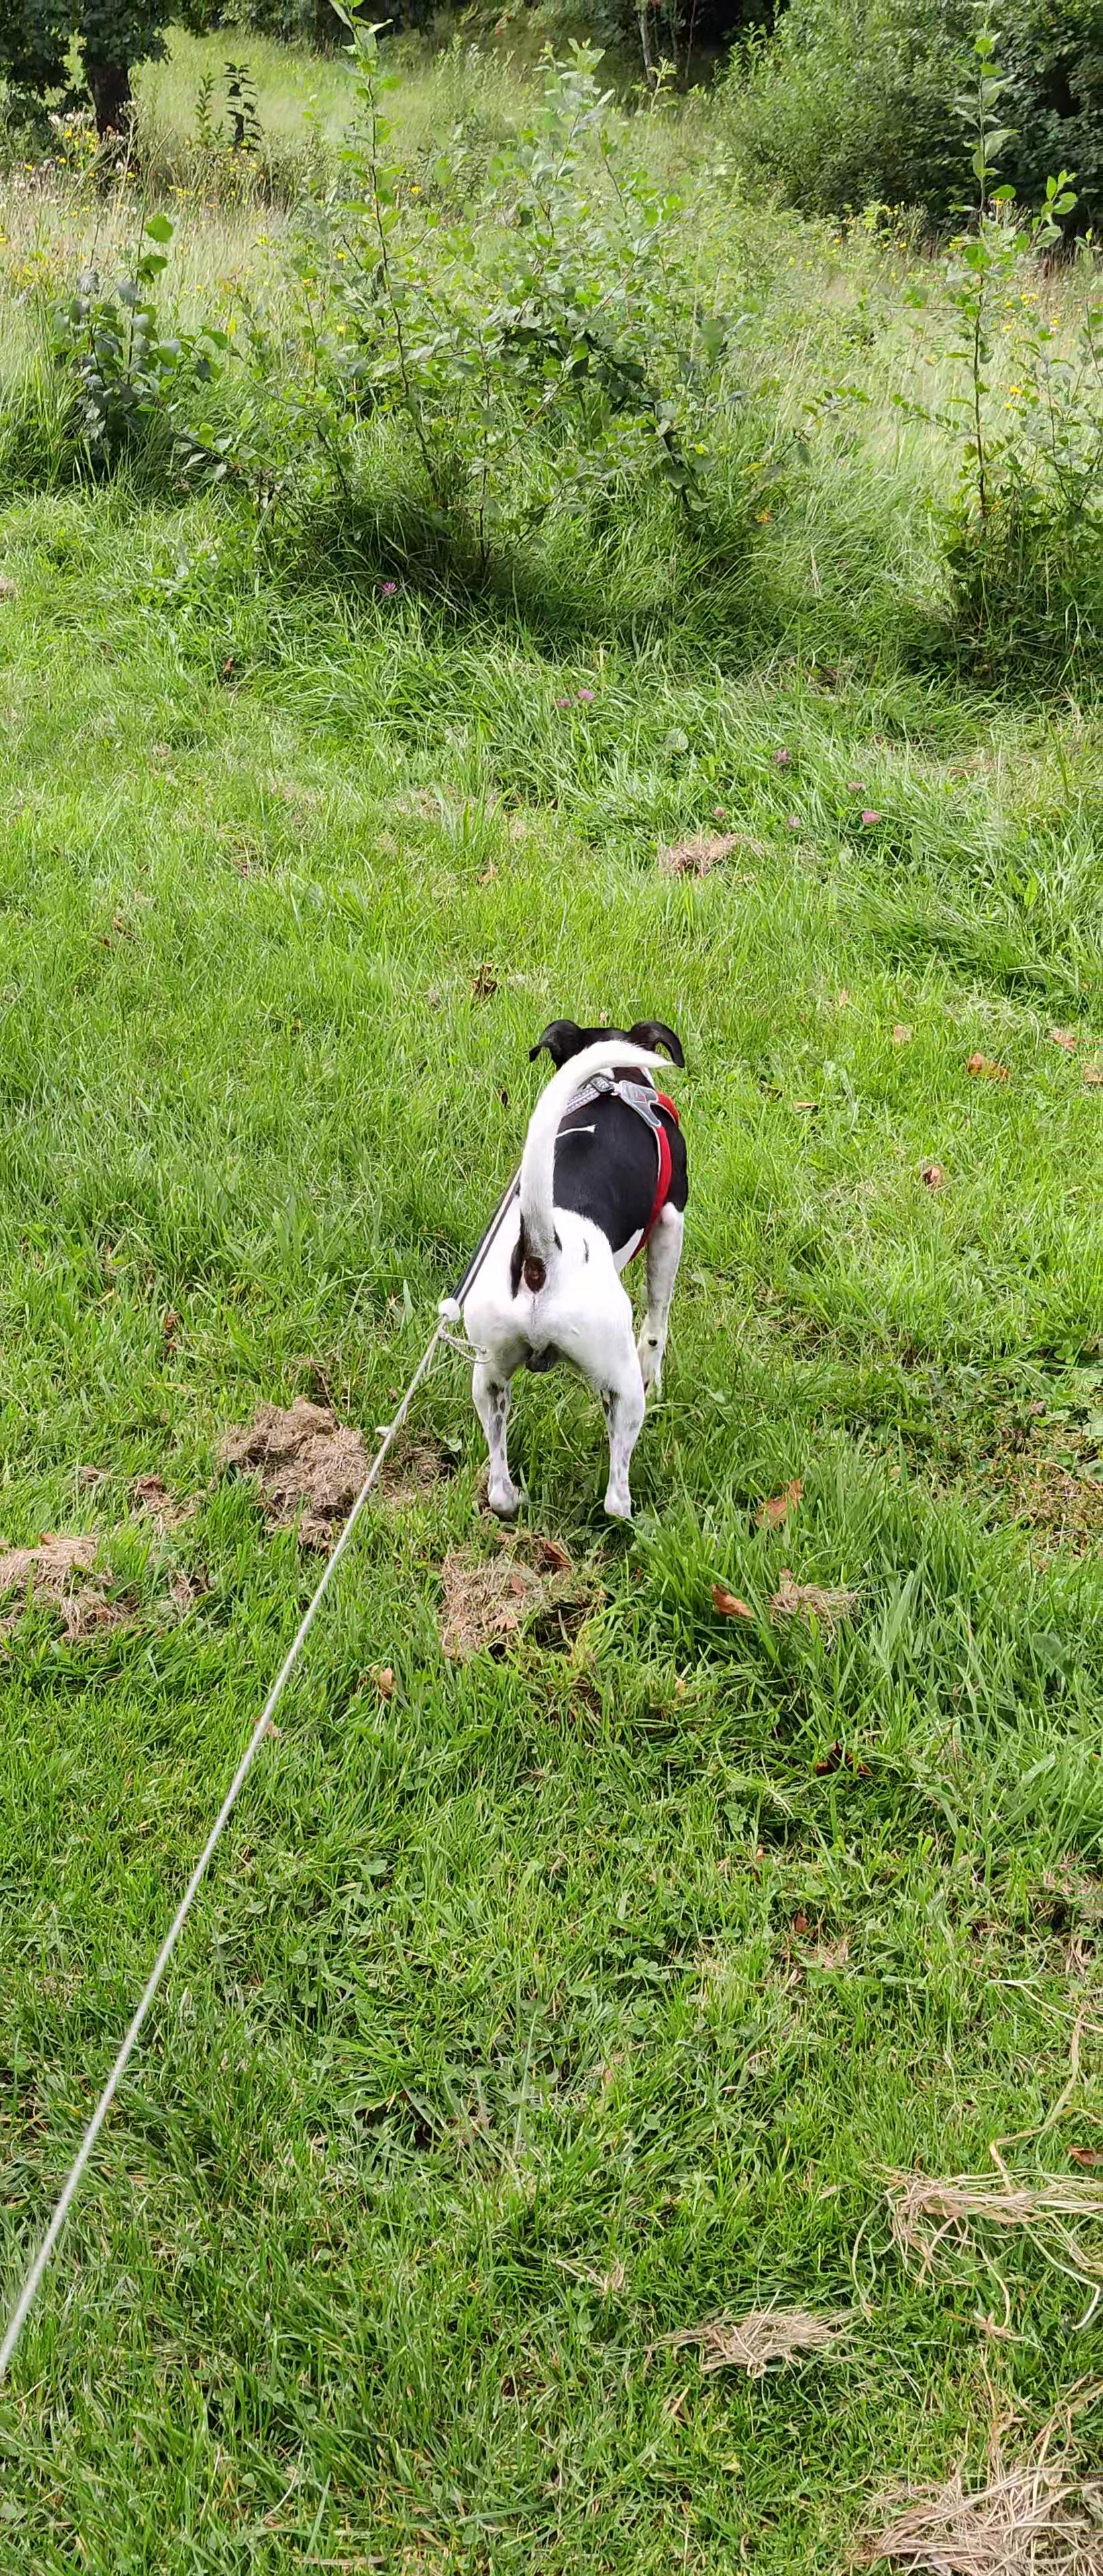Dog: (449, 1009, 697, 1533)
